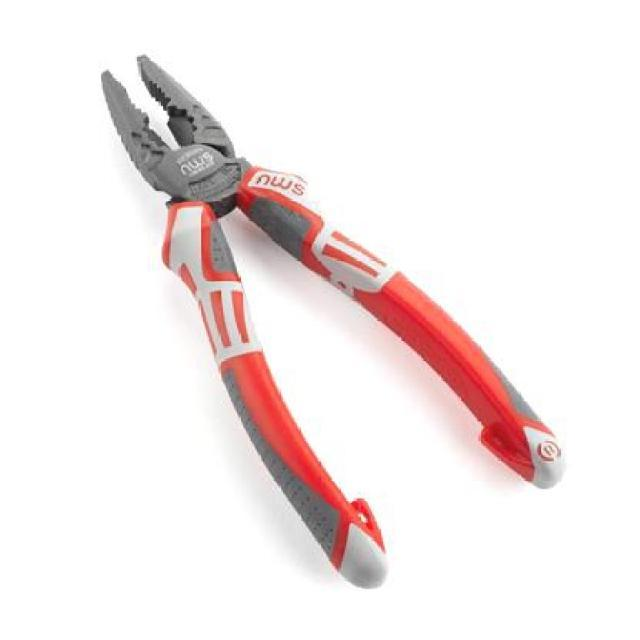pliers: (89, 33, 571, 592)
